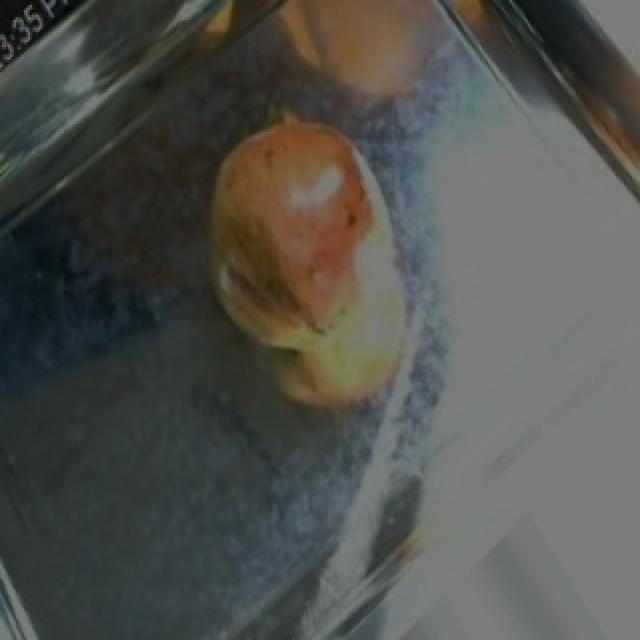fruit: (176, 94, 402, 370)
